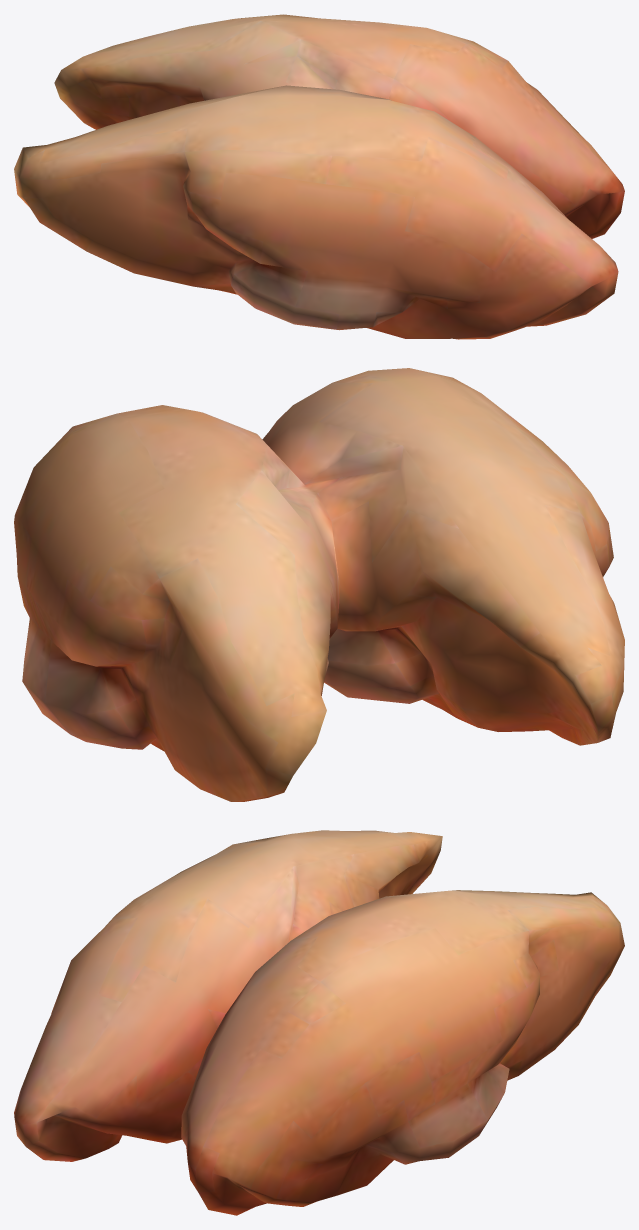
The model's file is chicken-breast.glb.
3 views of the same model, one above another, from view 1: azimuth 30°, elevation 25°; view 2: azimuth 150°, elevation 25°; view 3: azimuth 270°, elevation 25° (orthographic). The views are drawn at different scales.
Parts seen in each view (by area): view 1: Chicken Breast; view 2: Chicken Breast; view 3: Chicken Breast.
Part boxes in pixels (x1,y1,x2,y2): Chicken Breast: [14, 14, 624, 339]; Chicken Breast: [14, 368, 624, 801]; Chicken Breast: [14, 830, 624, 1215].
Size of the model in its own units: 2.11 by 0.8469 by 2.07.
Materials: 1 (1 with a texture image).
